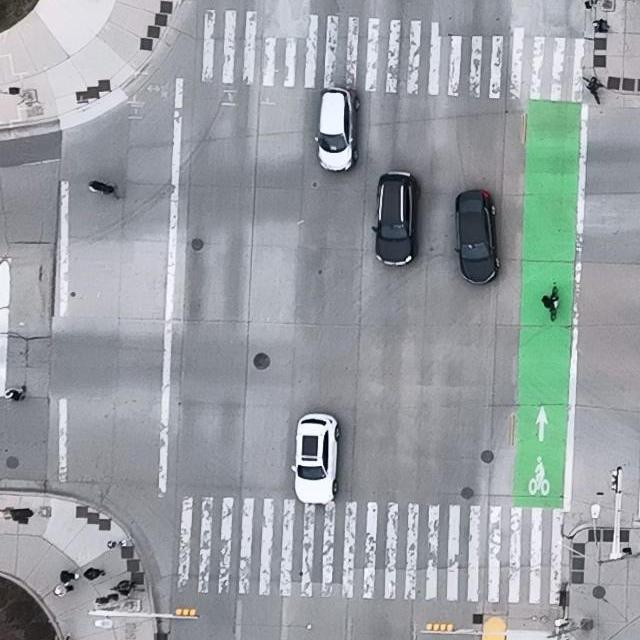car: (371, 171, 419, 268), (290, 413, 341, 504), (454, 189, 501, 285), (314, 88, 361, 172)
